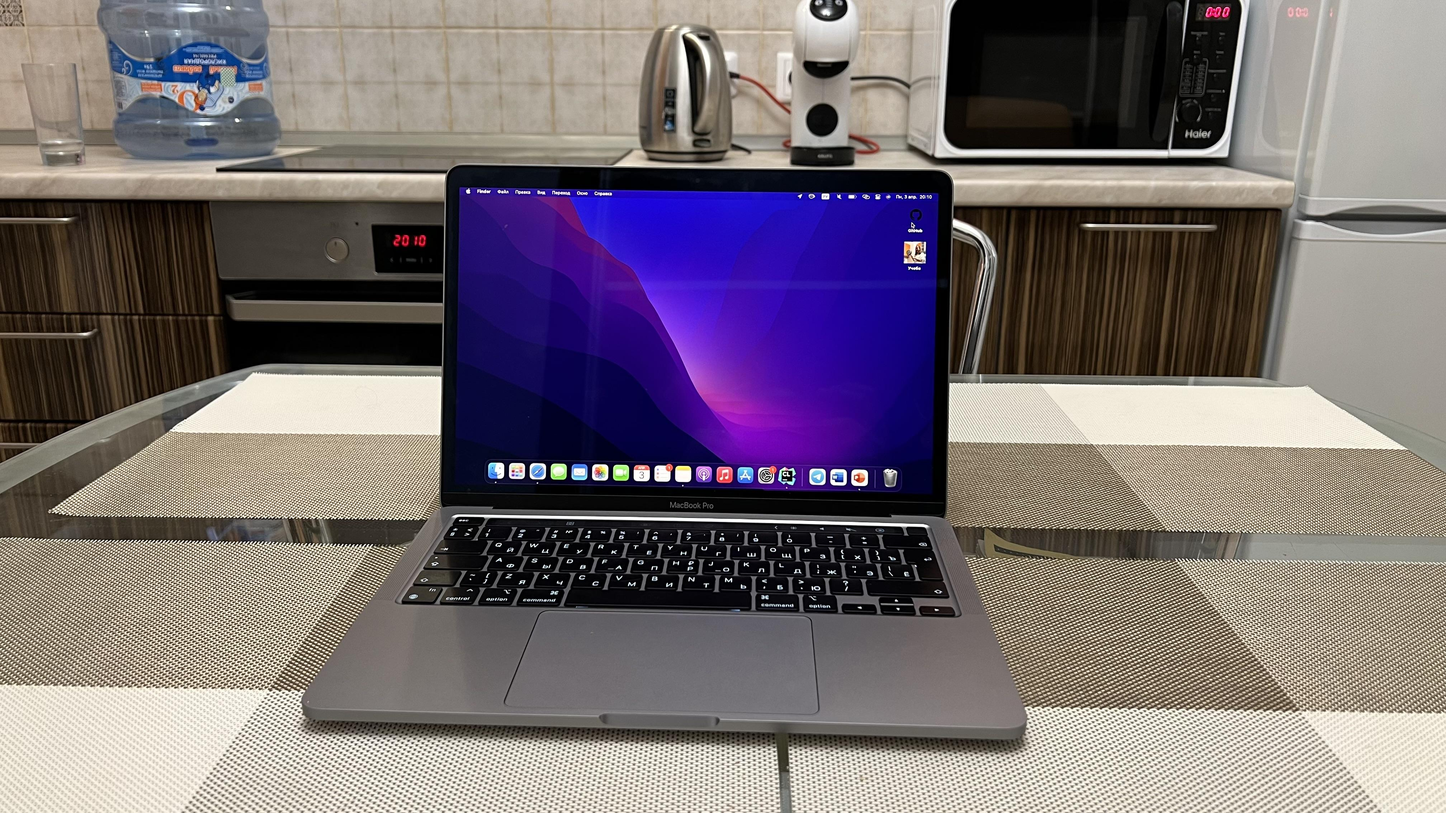monitor: (432, 156, 968, 523)
